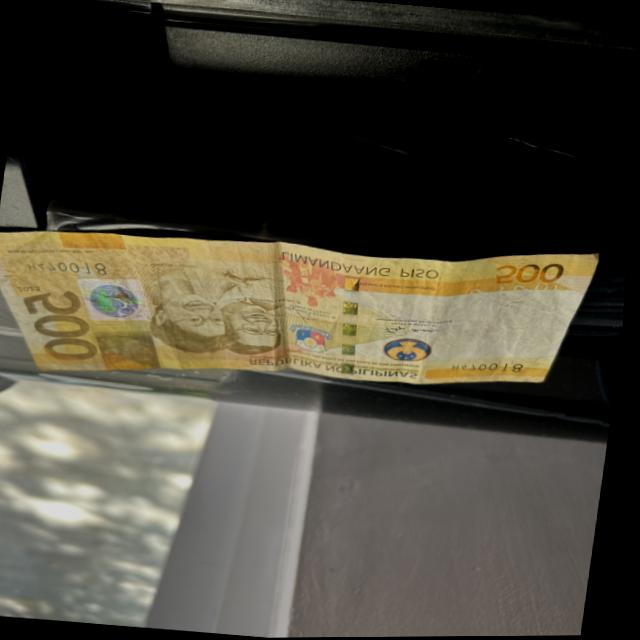concealed_value: (97, 325, 164, 372)
optically_variable_device: (86, 277, 143, 323)
watermark: (436, 281, 575, 380)
